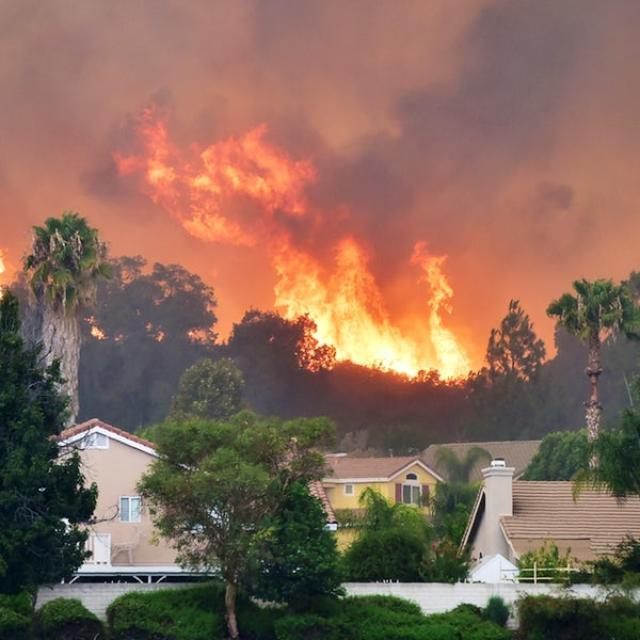Fire: (106, 84, 340, 252), (267, 238, 487, 386)
Smoke: (344, 9, 606, 240)
